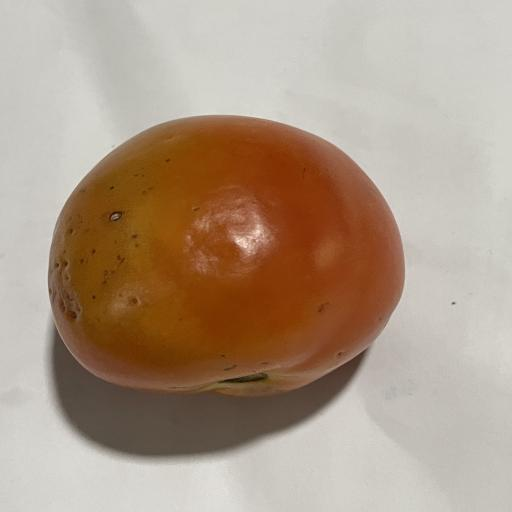unripe: (48, 116, 404, 396)
